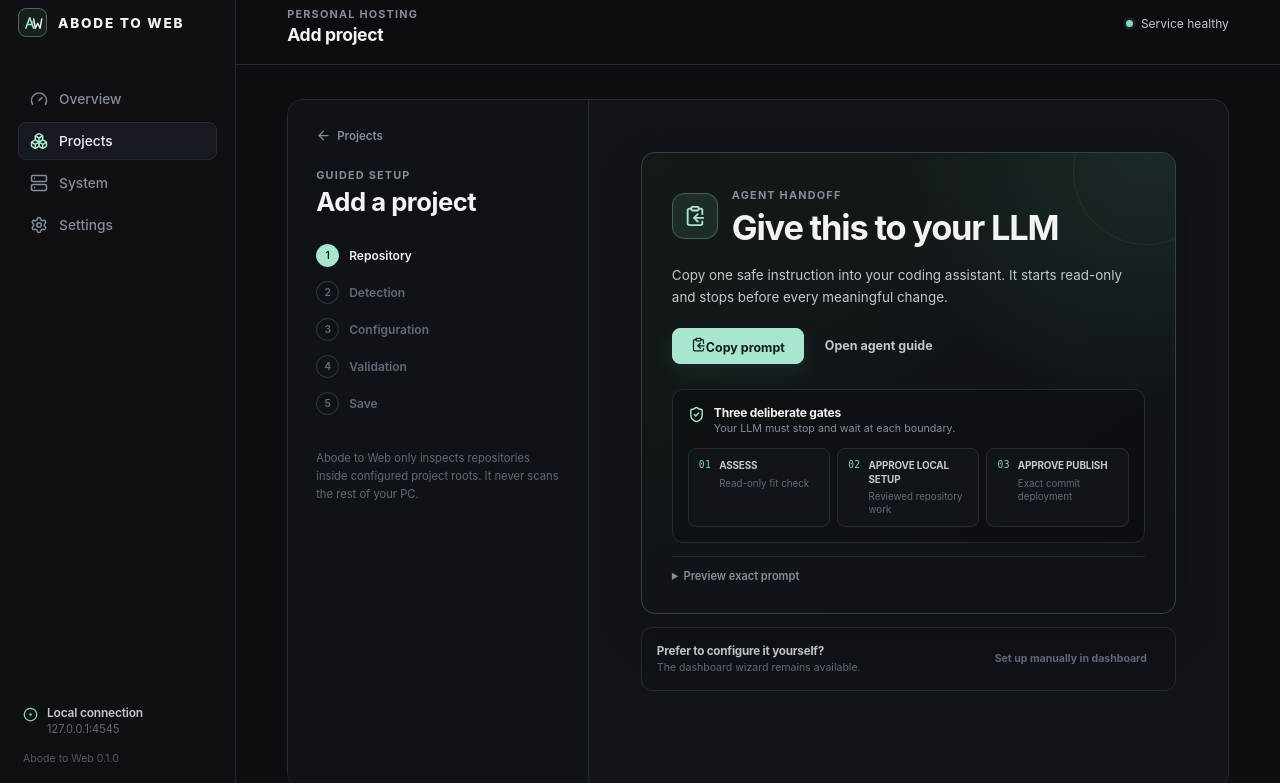
Test: project onboarding › reviews server-issued command suggestions without silently selecting them
Click the button "Set up manually in dashboard" at x=1071, y=659, box 982,641 -> 1160,677
(page scrolled)
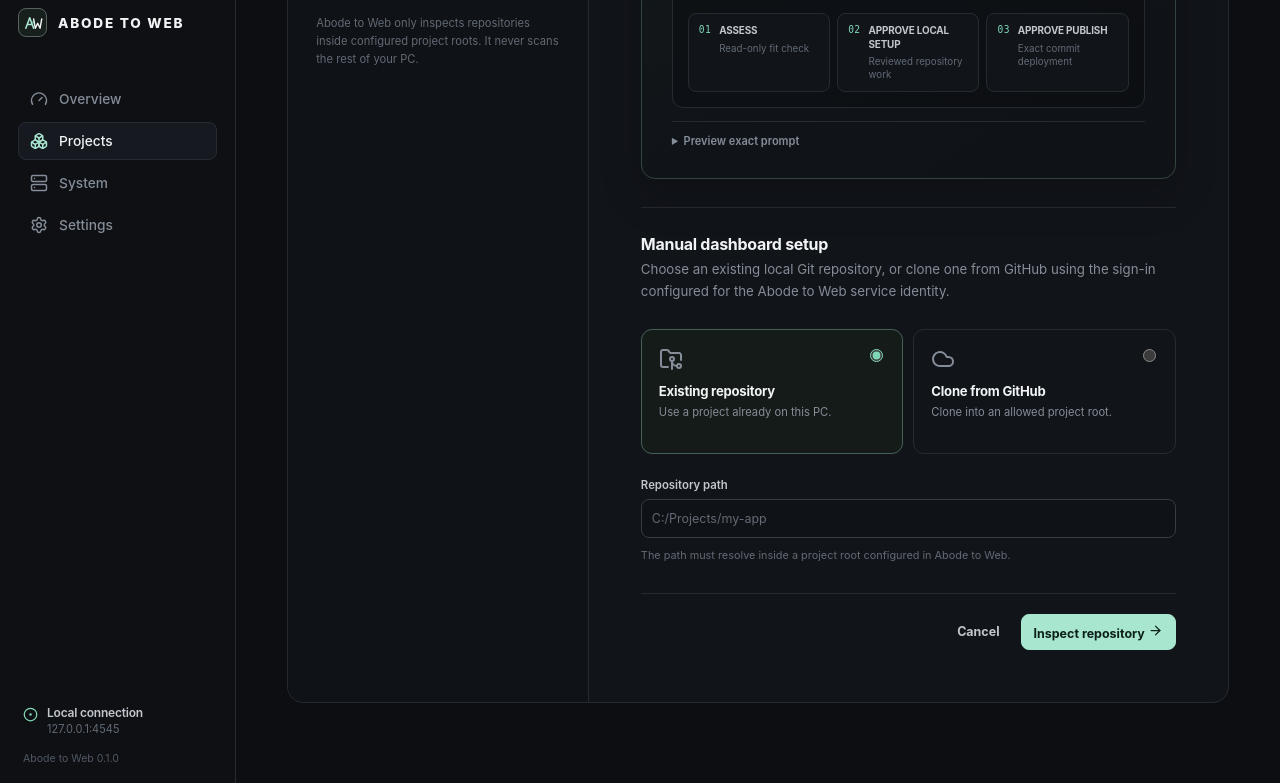
Type "C:/Projects/demo" into the field labelled "Repository path" at x=908, y=518, box 641,499 -> 1176,538
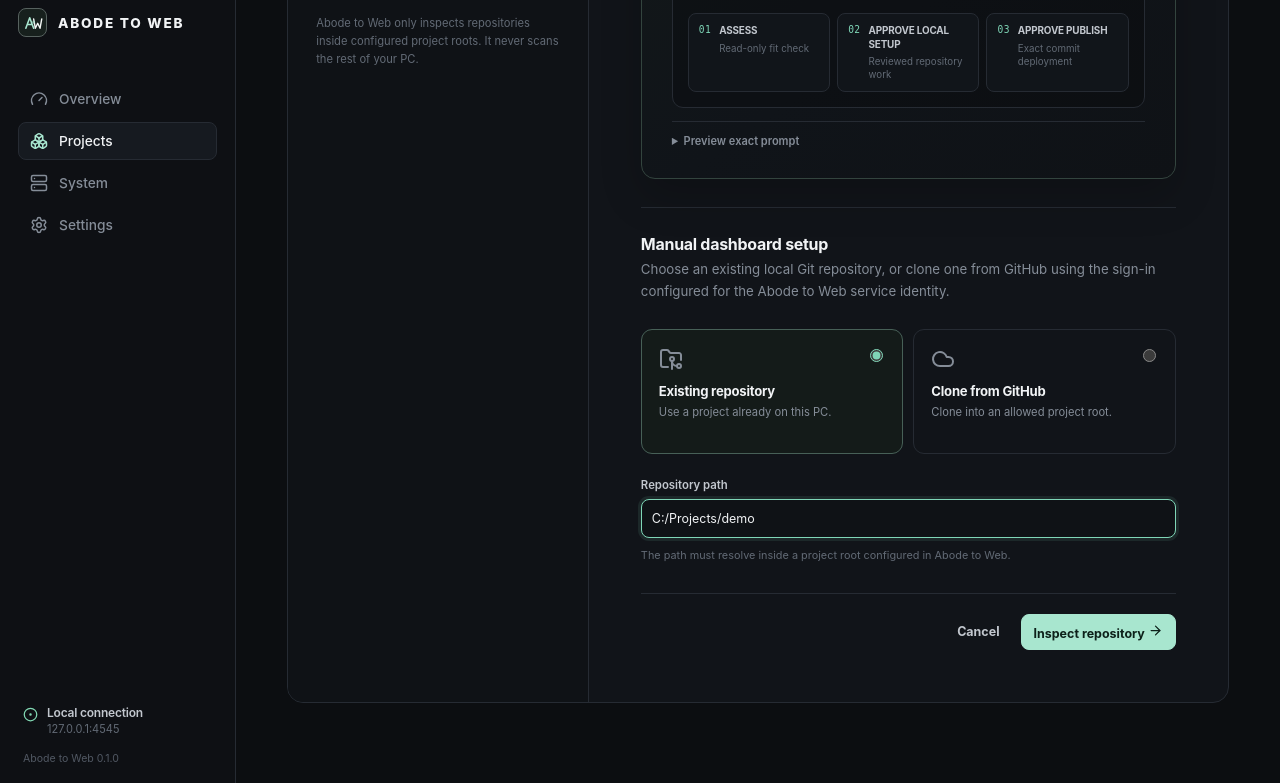
Click the button "Inspect repository" at x=1098, y=632, box 1020,614 -> 1176,650
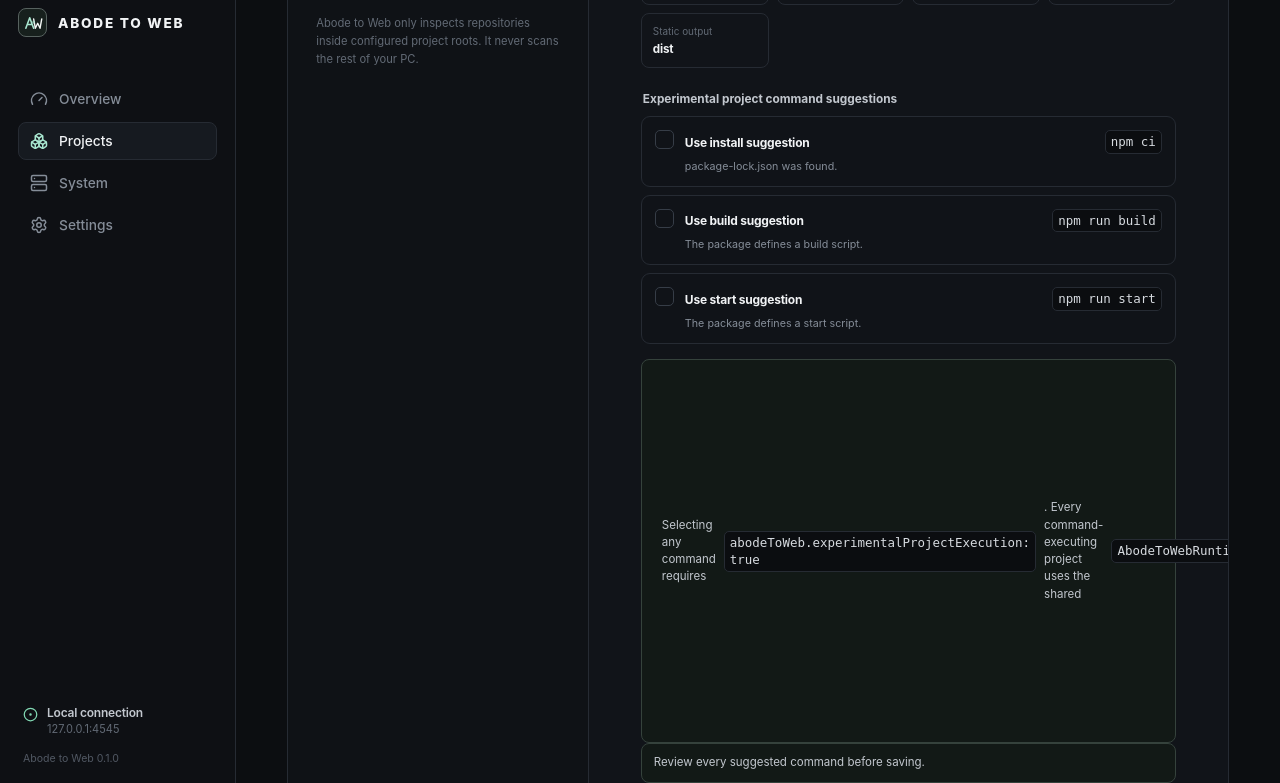
Check: the checkbox labelled "Use install suggestion npm ci package-lock.json was found." is not checked, box 641,116 -> 1176,187
Check: the 2nd checkbox is not checked, box 641,195 -> 1176,265
Check: the 3rd checkbox is not checked, box 641,273 -> 1176,344
